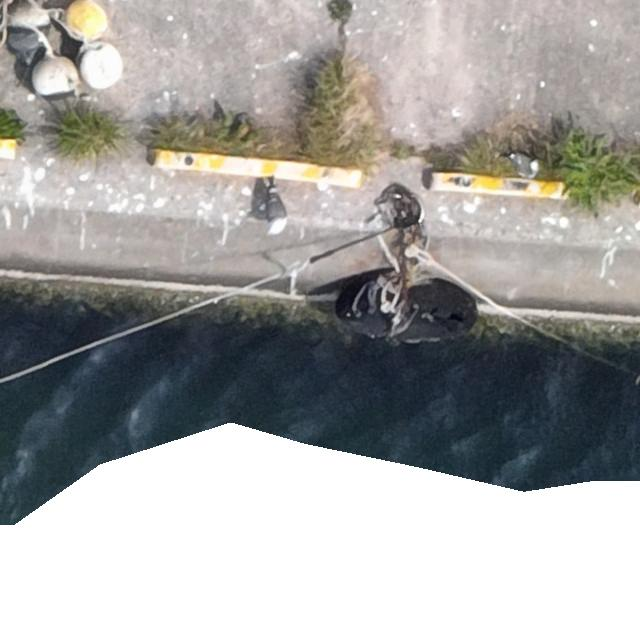umineko: (268, 194, 286, 230), (512, 154, 538, 174)
